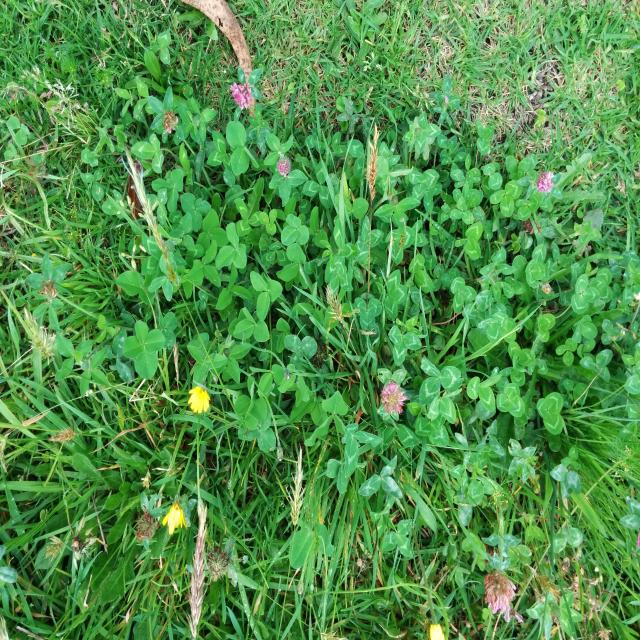Four Leaf Clover: (123, 320, 166, 379)
